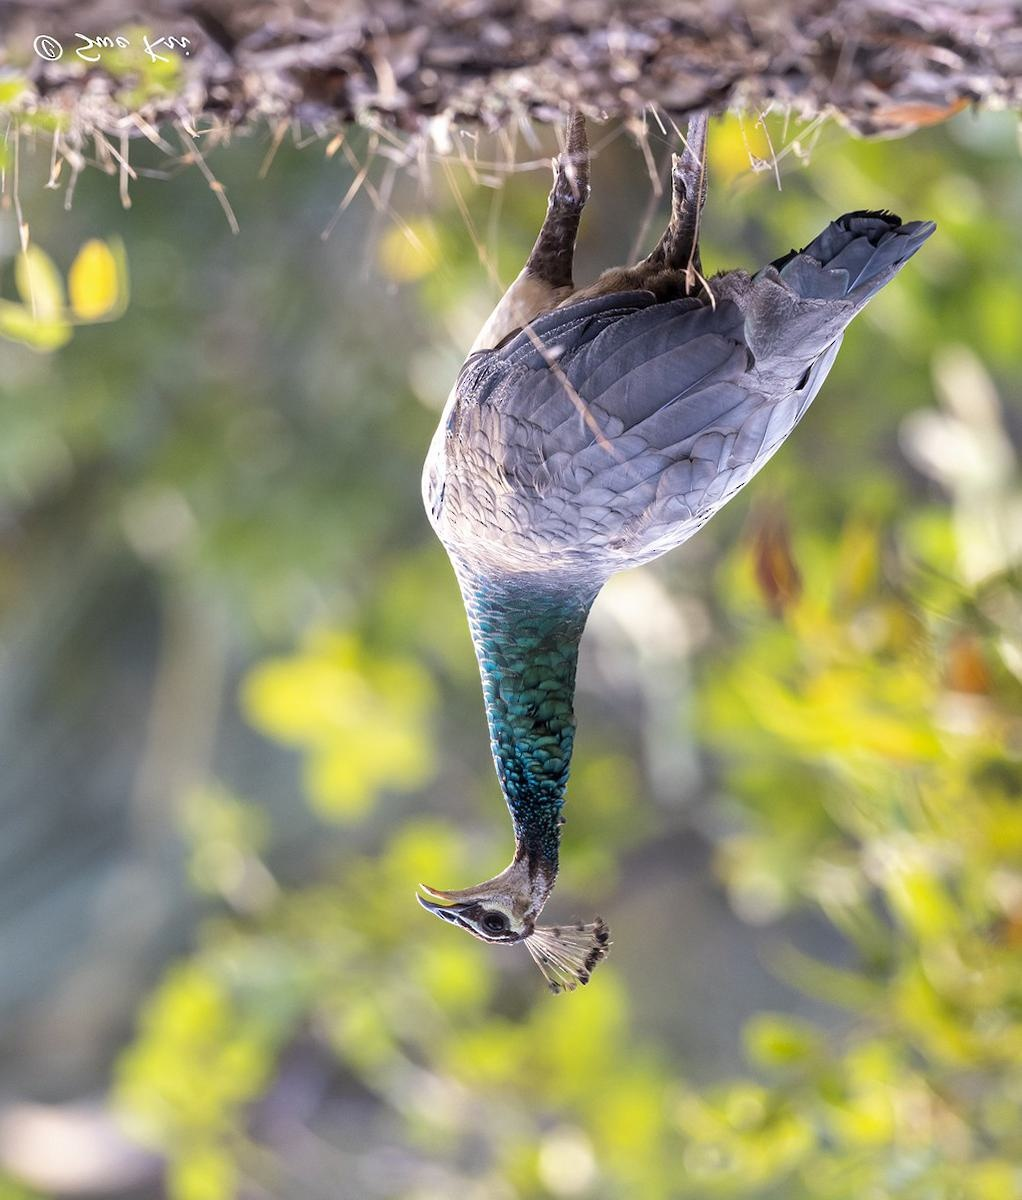peacock: (431, 67, 849, 996)
